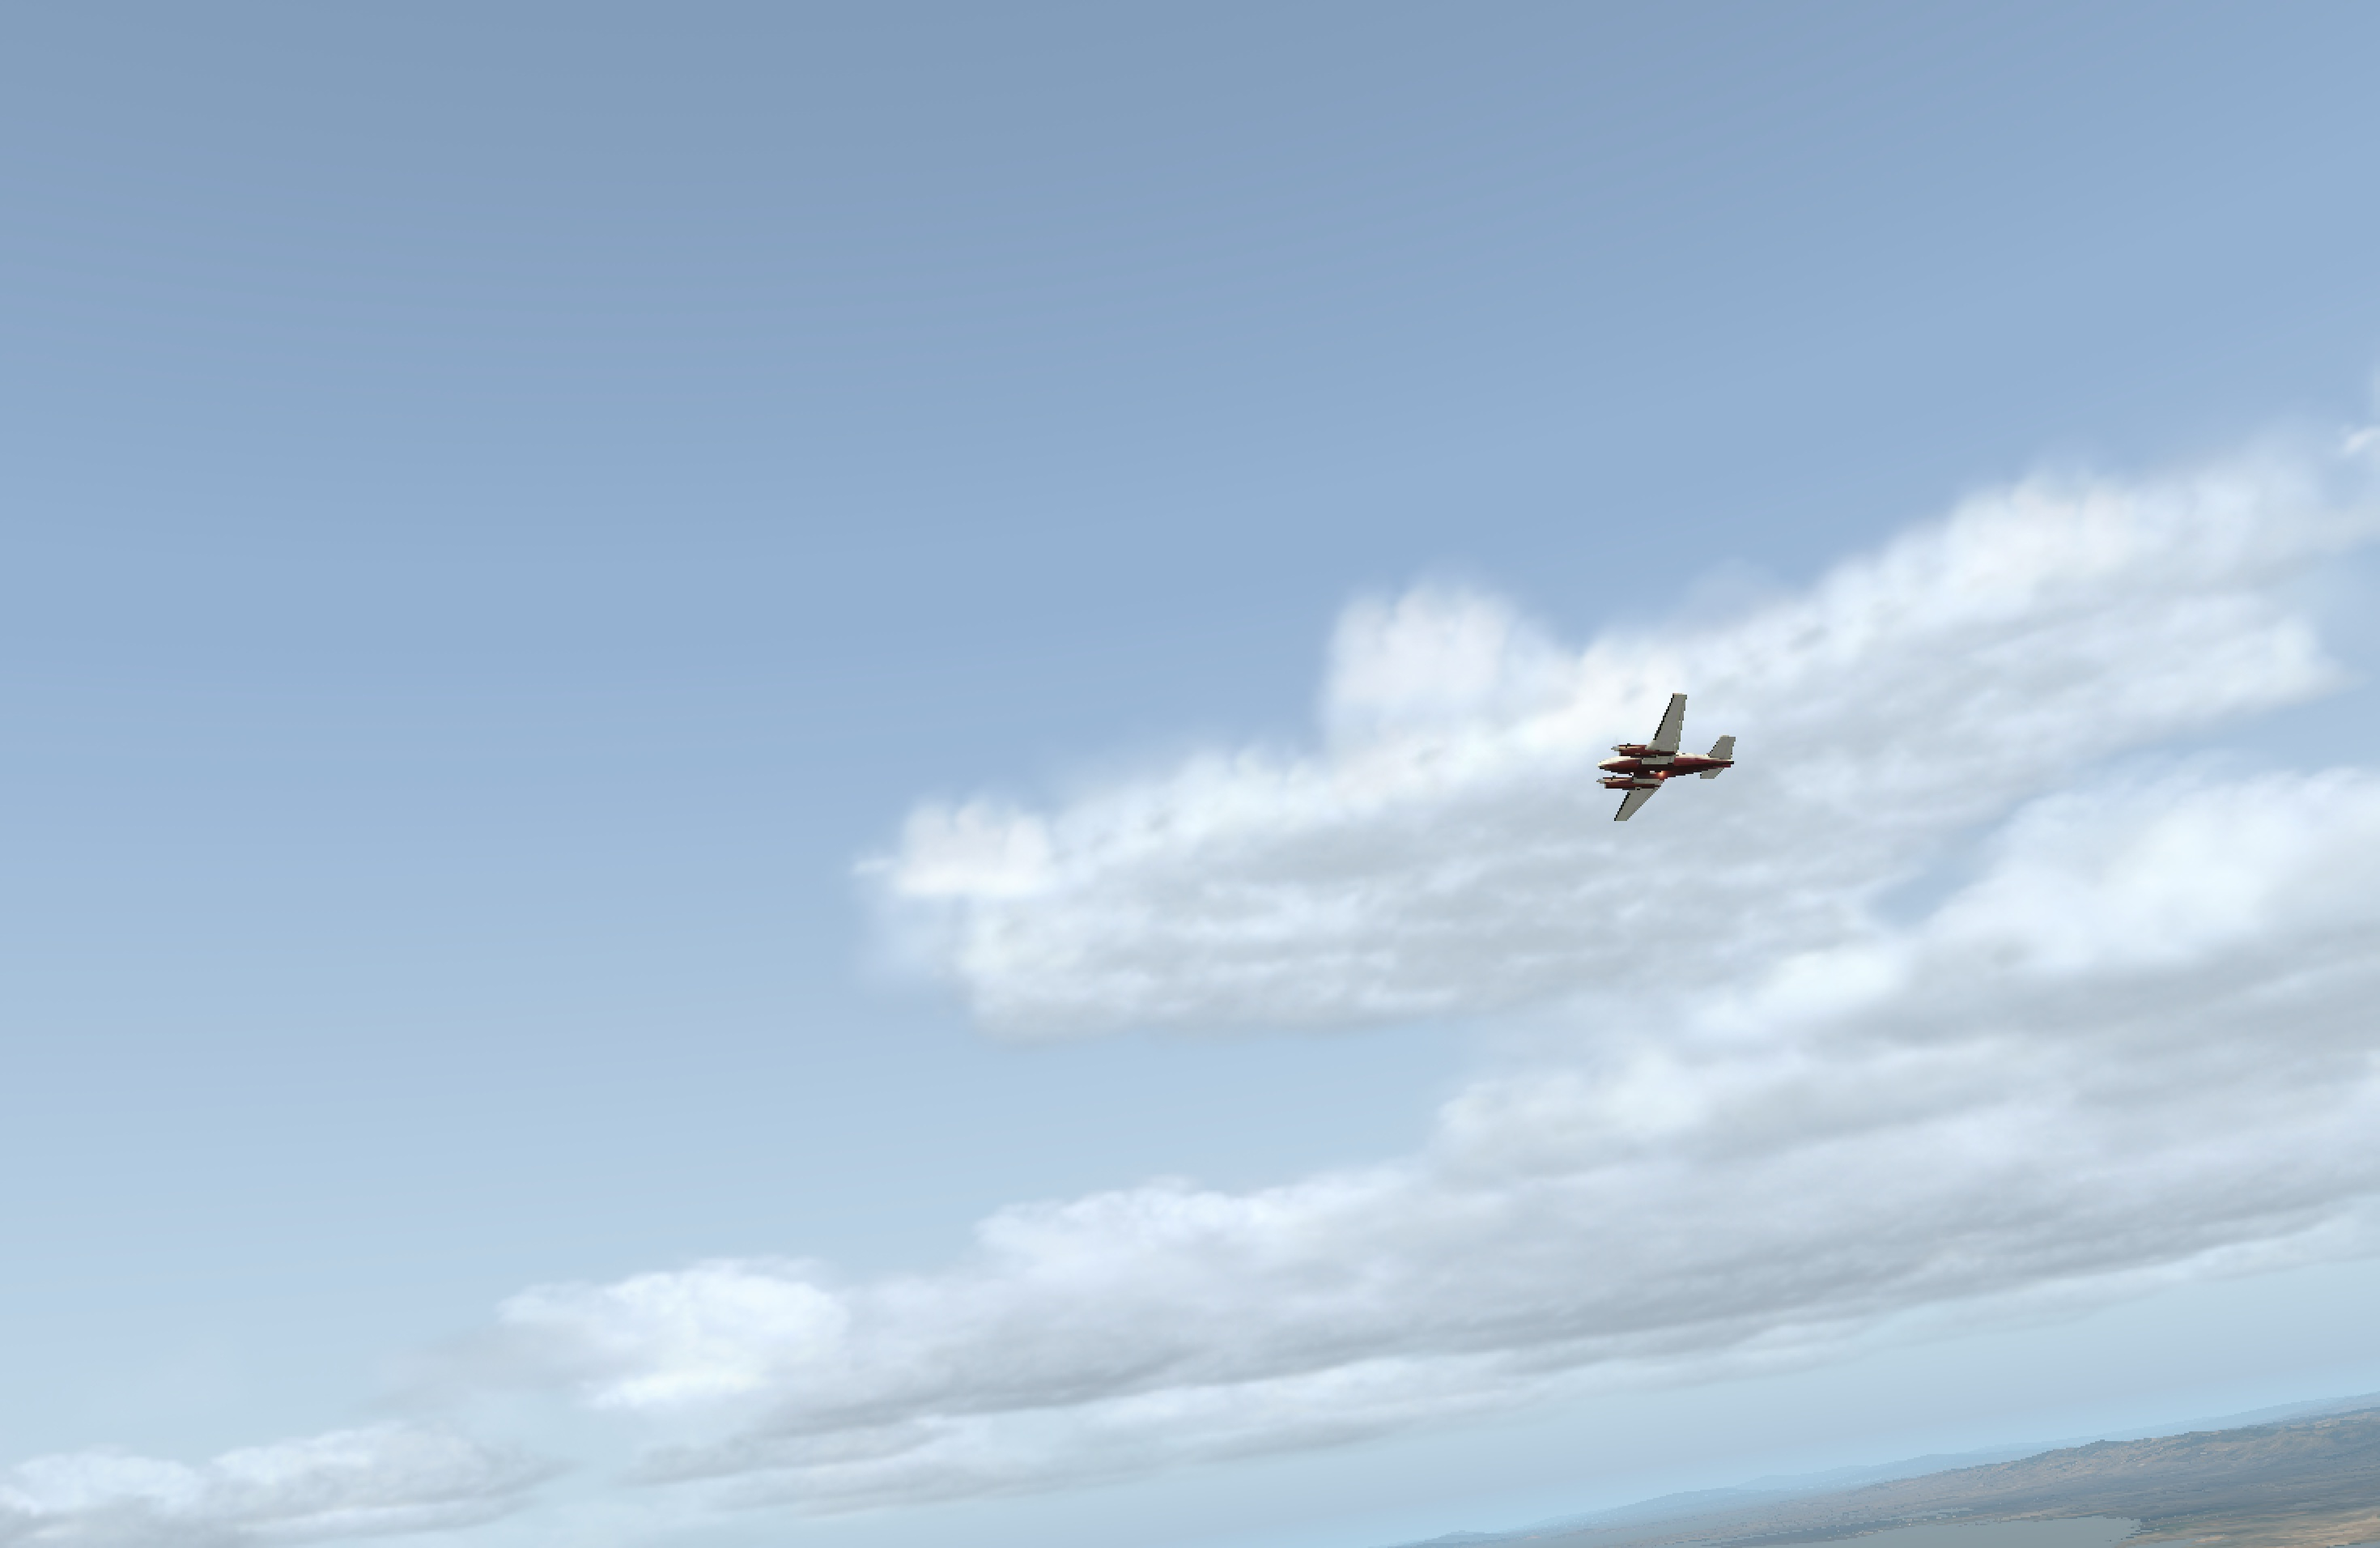aircraft: (1539, 731, 1752, 810)
